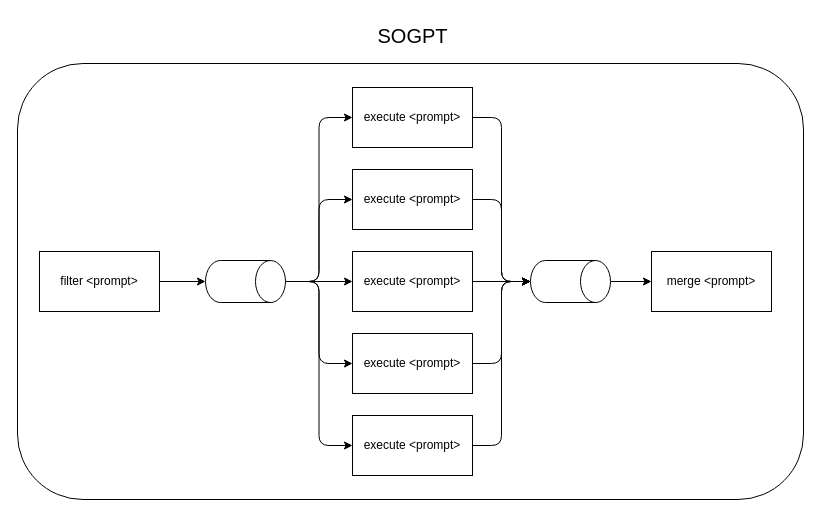
Some shapes in this 821 by 517 pixel diagram are drawn without their labels. Here are the shapes that lost their labels. From the top down, the centre of each, then its label:
At (245,281): "first".
At (570,281): "second".
